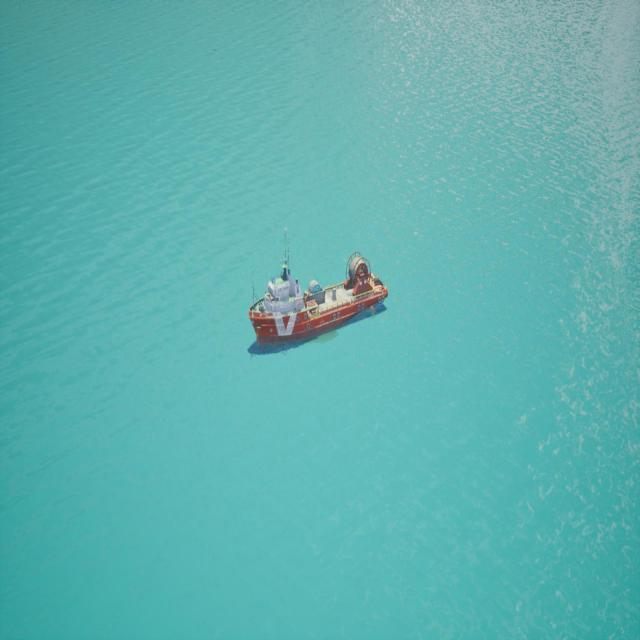tug boat: (249, 233, 390, 357)
